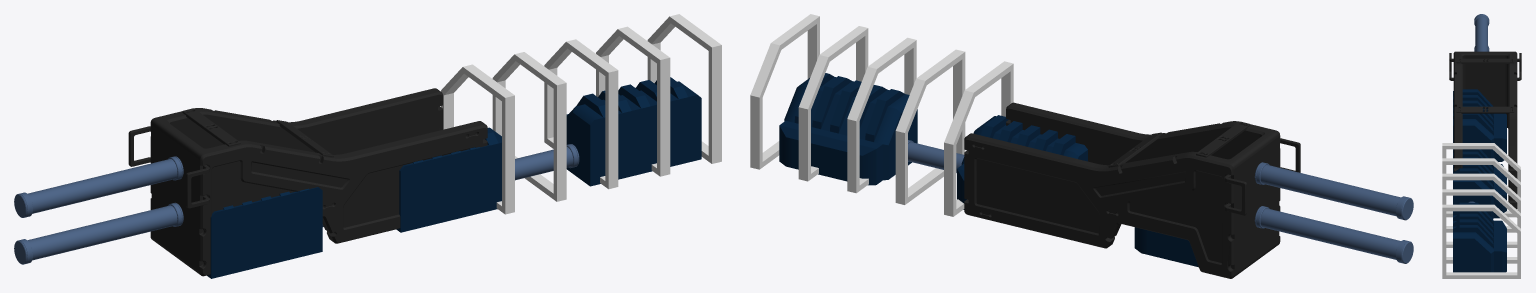
The model's file is machine_r.fbx.
The picture shows the model from 3 angles, left to right: view 1: azimuth 30°, elevation 25°; view 2: azimuth 150°, elevation 25°; view 3: azimuth 270°, elevation 25°; orthographic projection. The views are drawn at different scales.
Parts seen in each view (by area): view 1: machine_right; view 2: machine_right; view 3: machine_right.
Boxes of the visible parts, x1,y1,x2,y2 form: machine_right: (14,14,721,278); machine_right: (750,14,1413,278); machine_right: (1442,14,1521,278).
Size of the model in its own units: 1202 by 217 by 201.
